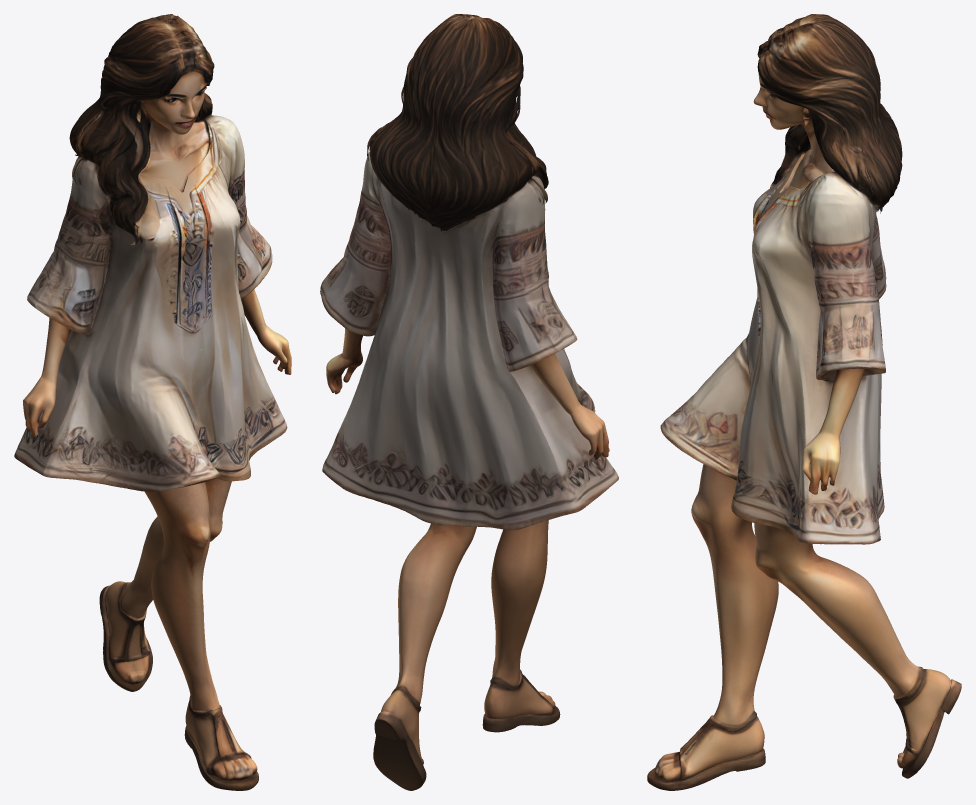
The model's file is natasha_rodin_raw.glb.
The picture shows the model from 3 angles, left to right: view 1: azimuth 30°, elevation 25°; view 2: azimuth 150°, elevation 25°; view 3: azimuth 270°, elevation 25°; orthographic projection. The views are drawn at different scales.
Parts seen in each view (by area): view 1: model; view 2: model; view 3: model.
Boxes of the visible parts, x1,y1,x2,y2 form: model: (14,14,291,790); model: (320,14,618,790); model: (647,14,961,790).
Bounding box in the file's own units: 0.6569 × 1.72 × 0.6464.
Materials: 1 (1 with a texture image).
